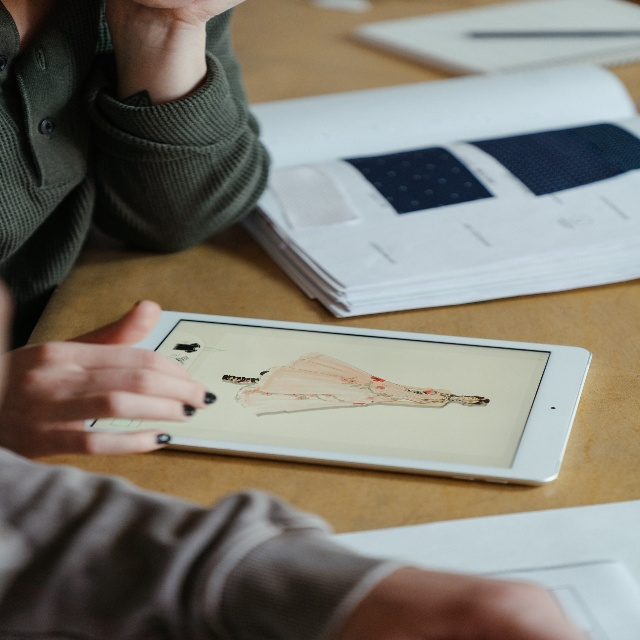Sin_guantes: (0, 298, 219, 458)
